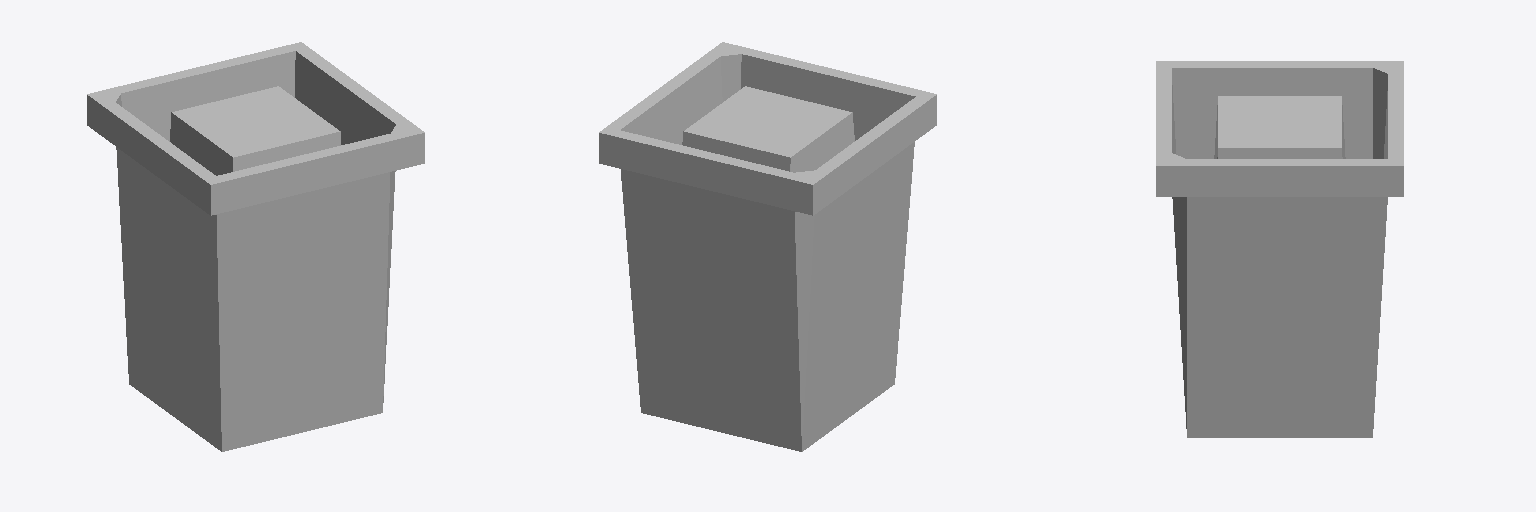
File: Sumo Death Pit.obj
The picture shows the model from 3 angles: view 1: azimuth 30°, elevation 25°; view 2: azimuth 150°, elevation 25°; view 3: azimuth 270°, elevation 25°; orthographic projection.
Parts seen in each view (by area): view 1: Cube; view 2: Cube; view 3: Cube.
Part boxes in pixels (x1,y1,x2,y2): Cube: (87, 42, 424, 451); Cube: (599, 42, 936, 451); Cube: (1156, 61, 1403, 437).
Bounding box in the file's own units: 4 × 5.08 × 4.